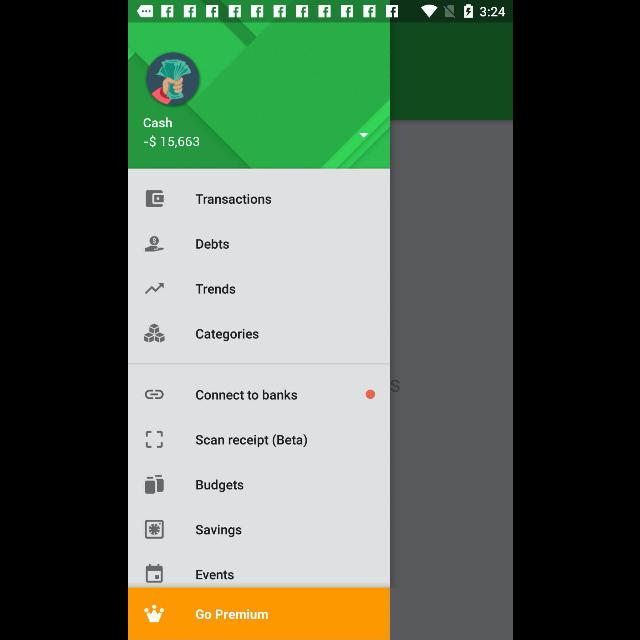icon: (144, 474, 164, 494), (145, 190, 163, 208), (146, 564, 162, 582), (144, 283, 164, 295), (358, 134, 368, 138)
image: (145, 52, 199, 106), (144, 323, 164, 343), (142, 604, 164, 622), (144, 520, 164, 538), (144, 236, 164, 252), (144, 432, 162, 448), (144, 389, 164, 399)
panel: (127, 22, 389, 640)
text: (195, 434, 307, 448), (195, 390, 297, 400), (195, 608, 268, 620), (196, 328, 258, 342), (195, 194, 271, 204), (143, 136, 199, 148), (195, 524, 241, 538), (195, 480, 243, 492), (195, 284, 235, 294), (195, 570, 233, 580), (196, 239, 228, 249), (143, 118, 171, 128)
uppertaskbar: (128, 1, 512, 23)
